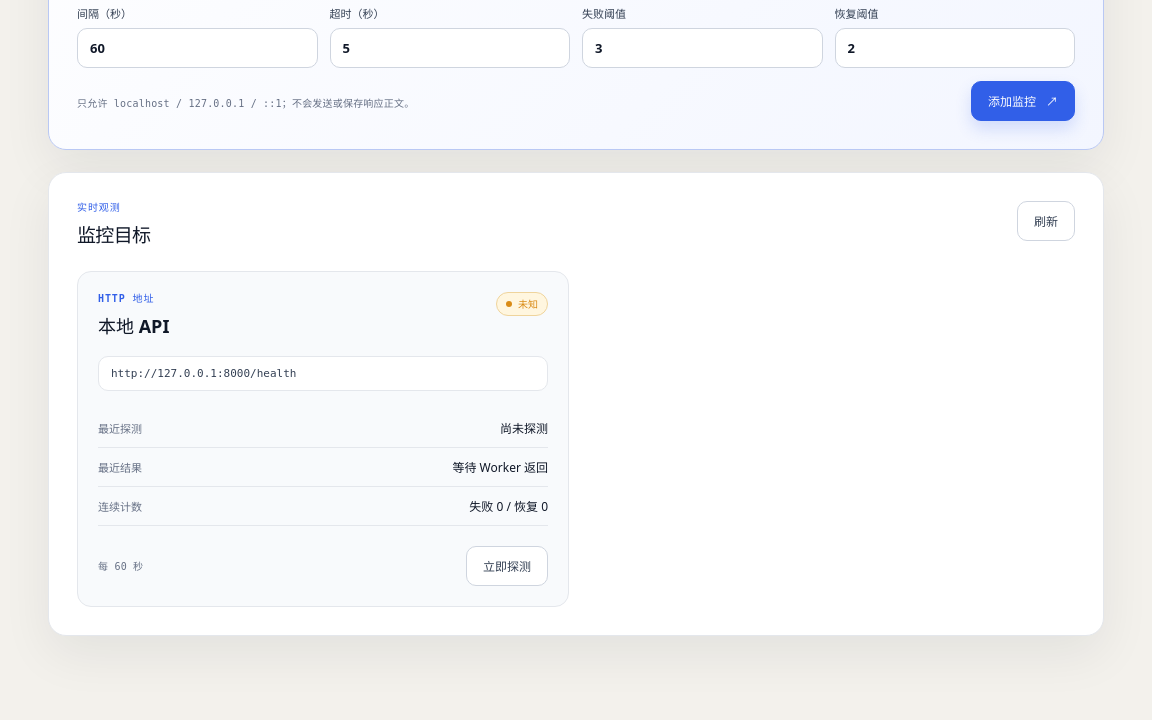
TargetsPage › announces a failed probe as an alert instead of a success status
(page scrolled)
Click the button "立即探测": [507, 566] box x1=466 y1=546 x2=548 y2=586
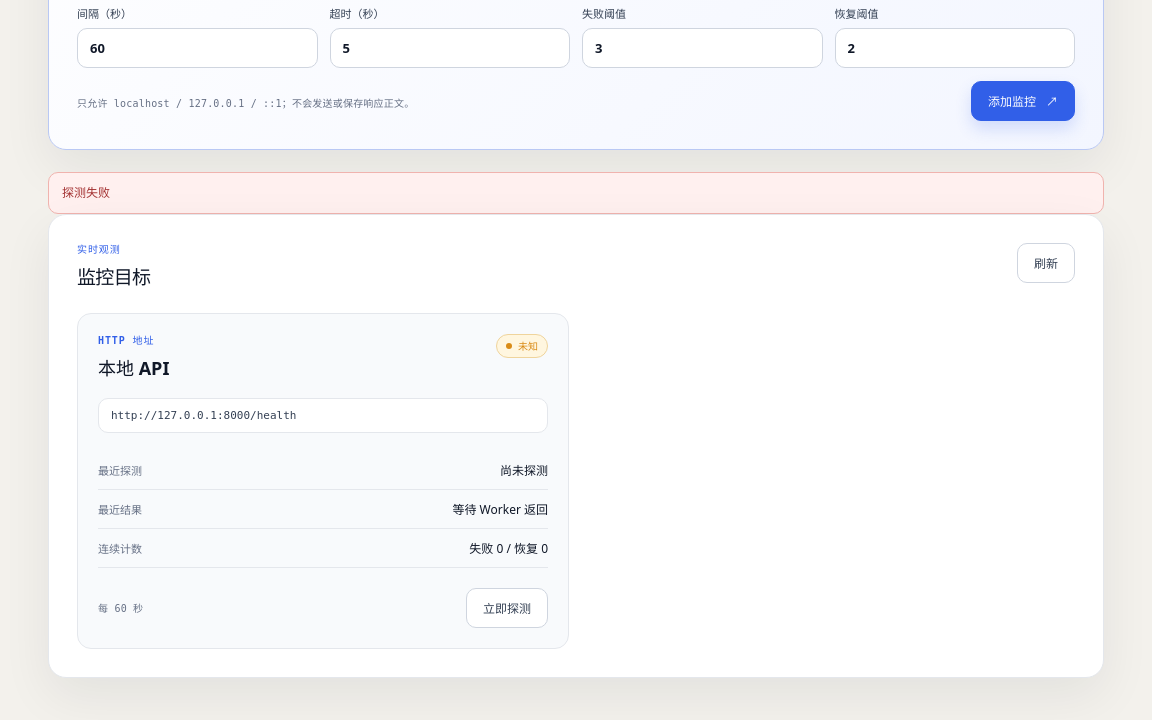
Check: the message reads "探测失败", box x1=62 y1=184 x2=110 y2=201
